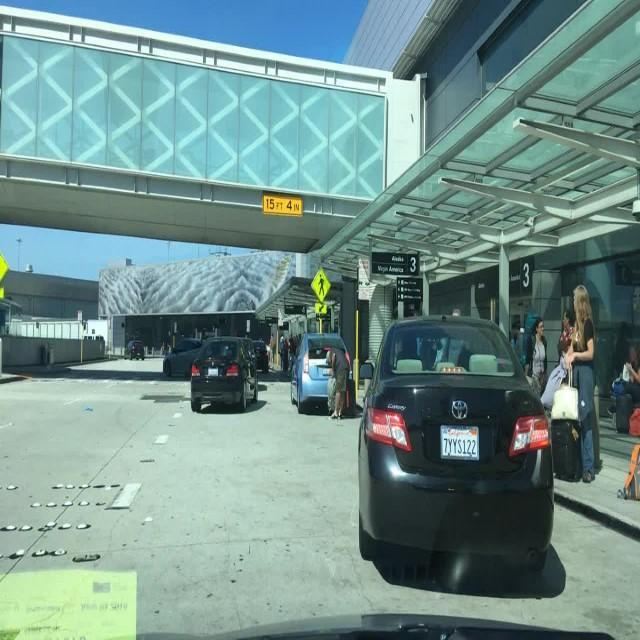normal: (135, 279, 629, 628)
